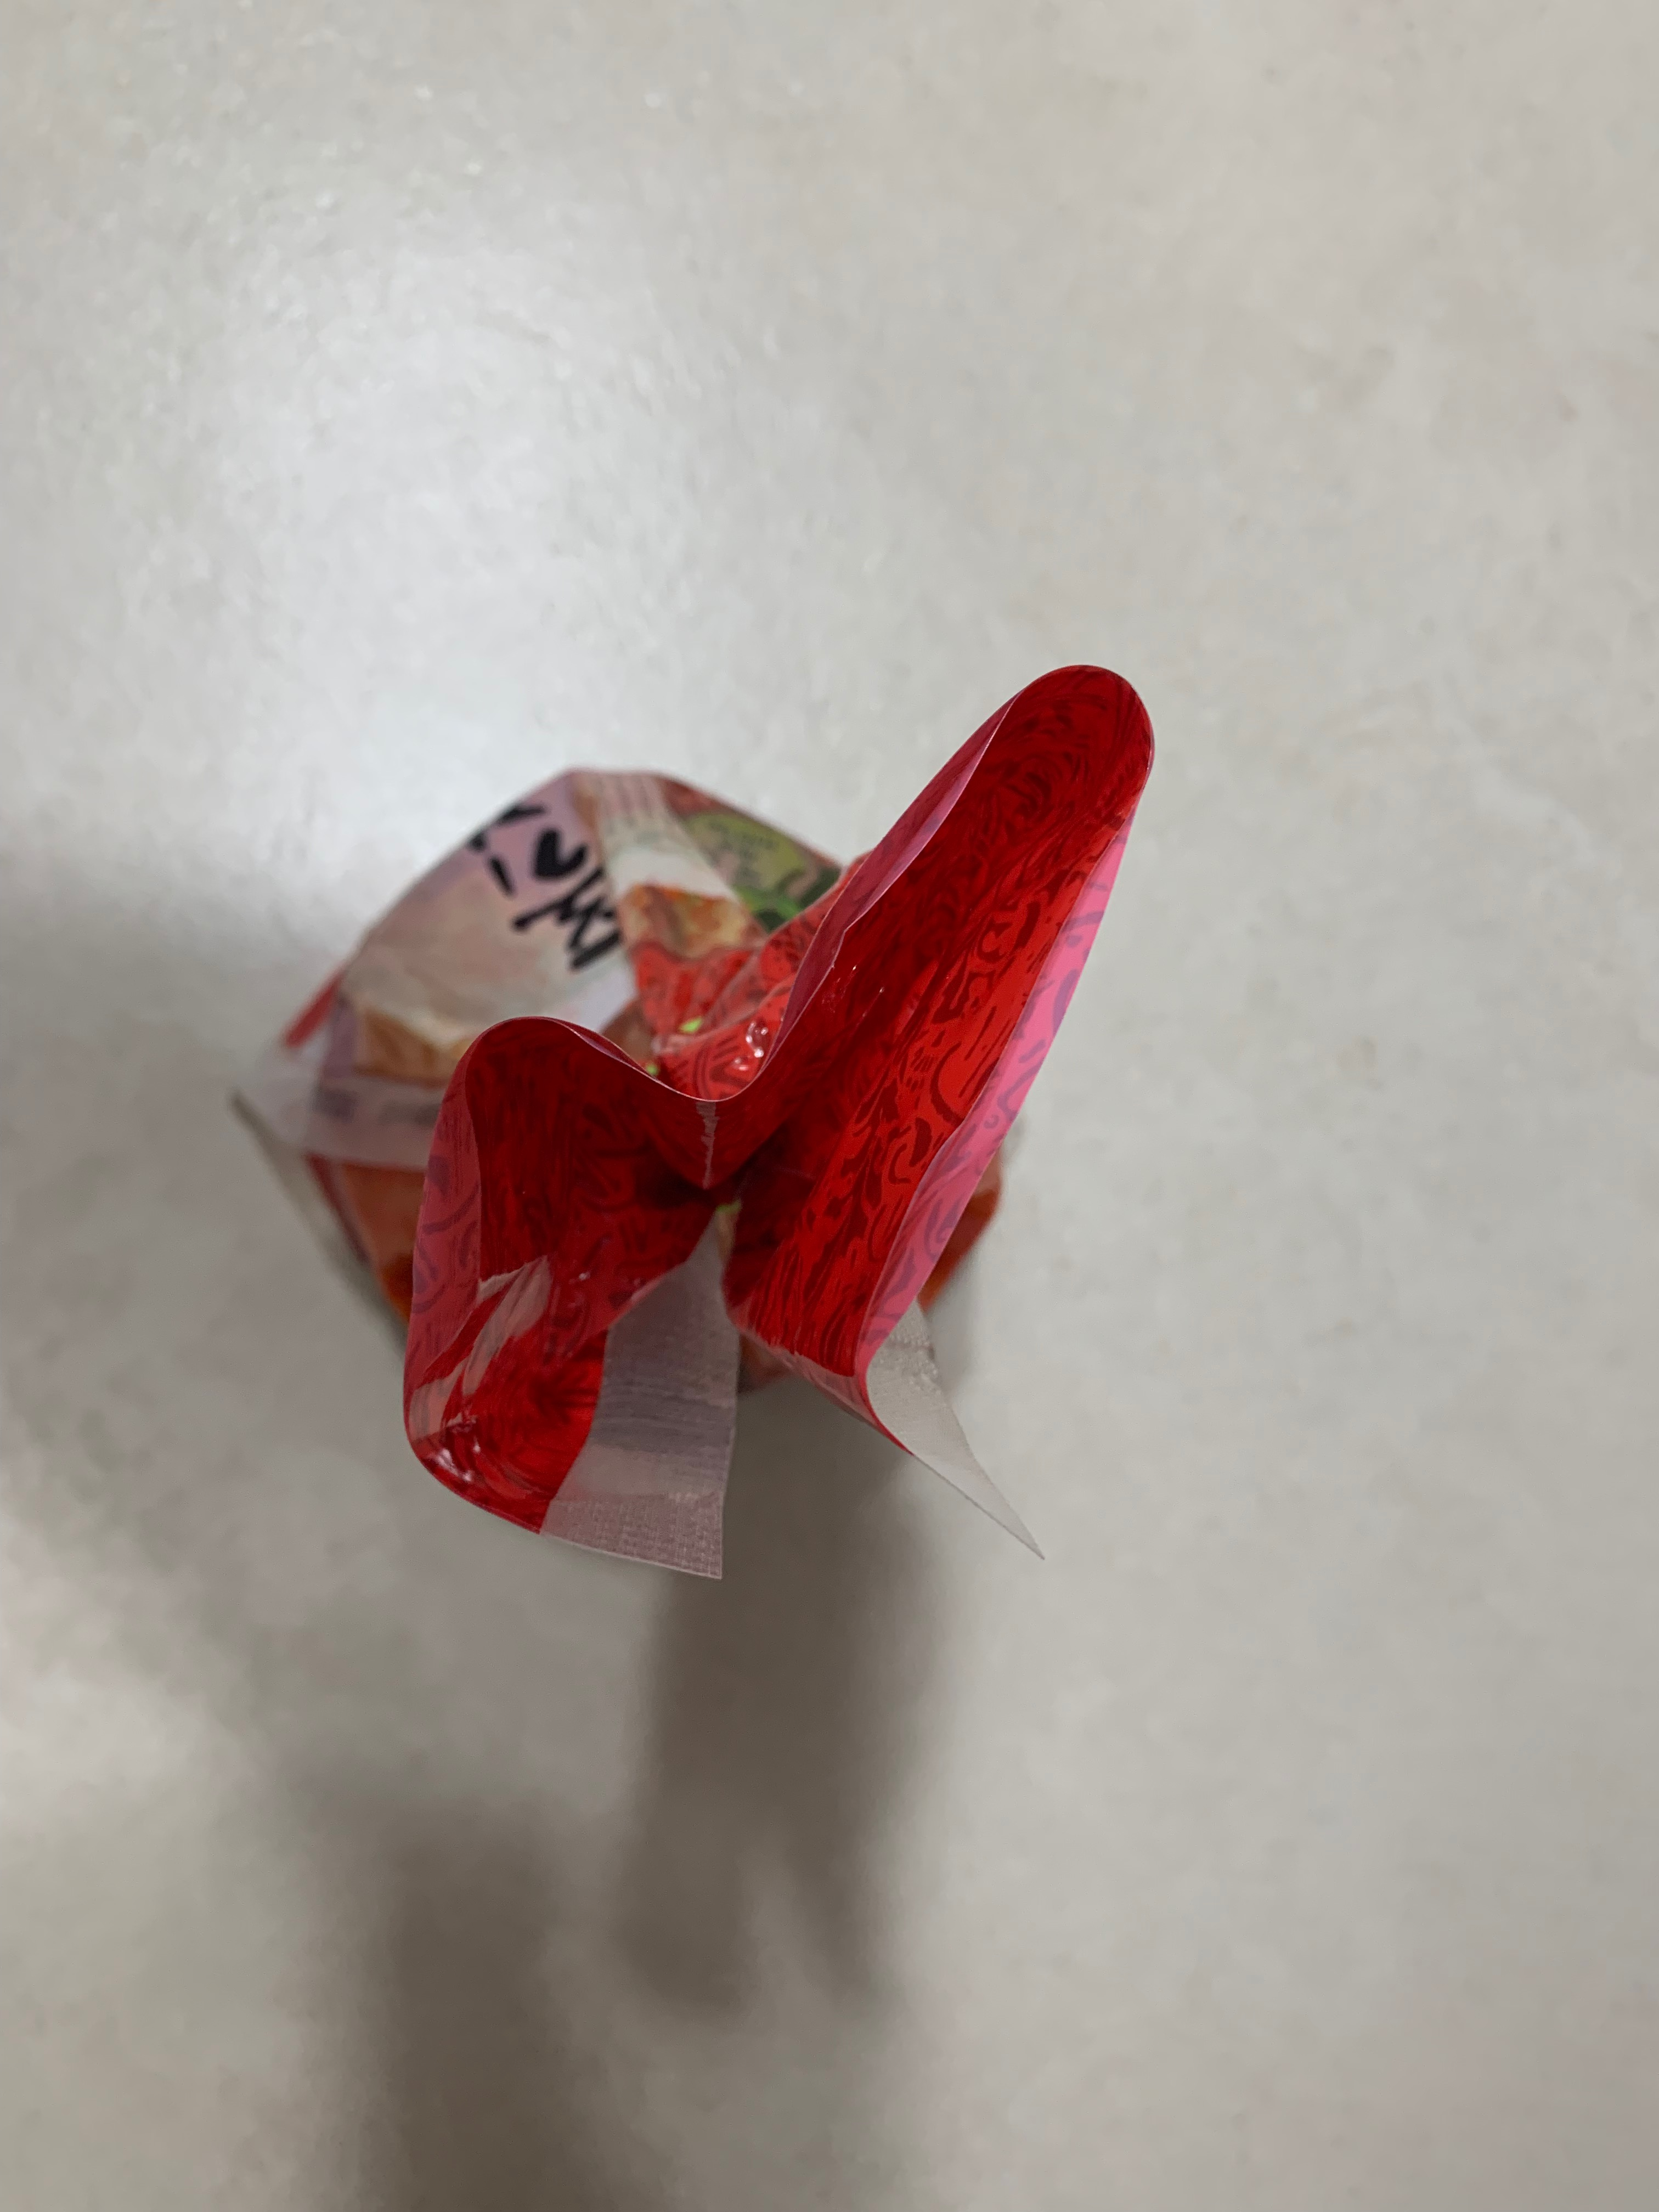kimchi: (281, 664, 1161, 1541)
